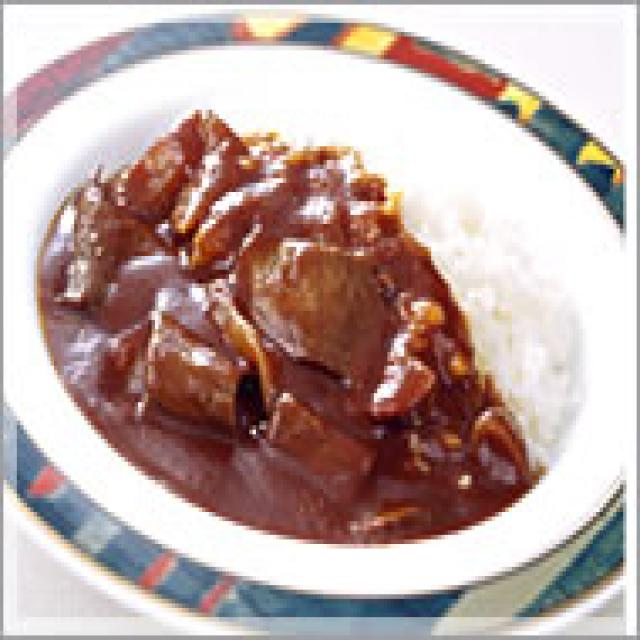牛肉菜式: (21, 14, 616, 612)
